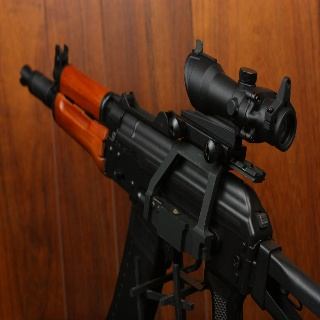rifle: (18, 37, 320, 320)
